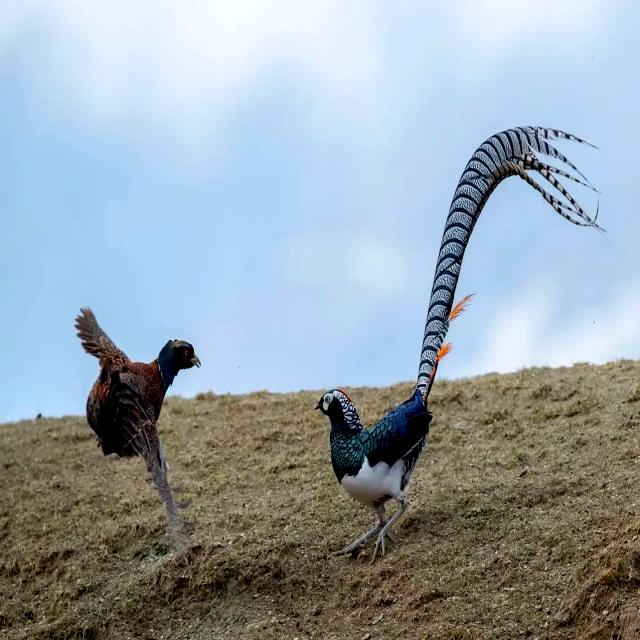Chrysolophus amherstiae: (417, 126, 602, 397)
